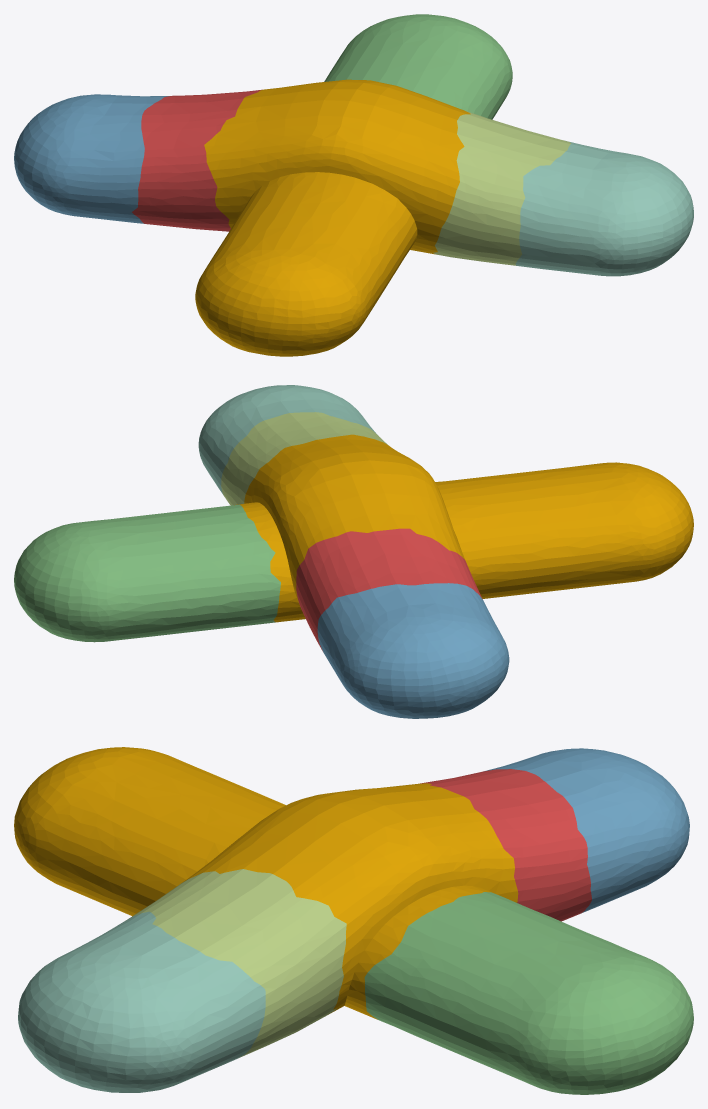
File: fractured_58_6pcs.glb
3 views of the same model, one above another, from view 1: azimuth 30°, elevation 25°; view 2: azimuth 150°, elevation 25°; view 3: azimuth 270°, elevation 25° (orthographic). The views are drawn at different scales.
Visible parts, largest first — view 1: piece_0.obj, piece_4.obj, piece_2.obj, piece_3.obj, piece_5.obj, piece_1.obj; view 2: piece_0.obj, piece_3.obj, piece_2.obj, piece_1.obj, piece_4.obj, piece_5.obj; view 3: piece_0.obj, piece_3.obj, piece_4.obj, piece_5.obj, piece_2.obj, piece_1.obj.
Part boxes in pixels (x1,y1,x2,y2): piece_0.obj: (195,79,470,356); piece_4.obj: (515,140,693,276); piece_2.obj: (14,94,169,223); piece_3.obj: (324,14,512,119); piece_5.obj: (433,110,571,265); piece_1.obj: (132,89,262,231); piece_0.obj: (234,434,693,622); piece_3.obj: (14,504,280,642); piece_2.obj: (317,583,509,718); piece_1.obj: (296,528,482,651); piece_4.obj: (198,385,377,495); piece_5.obj: (221,412,388,505); piece_0.obj: (14,747,518,1019); piece_3.obj: (364,892,693,1094); piece_4.obj: (18,911,265,1092); piece_5.obj: (125,869,346,1058); piece_2.obj: (484,748,689,913); piece_1.obj: (420,769,591,921).
Bounding box in the file's own units: 0.9999 × 0.2492 × 1.
